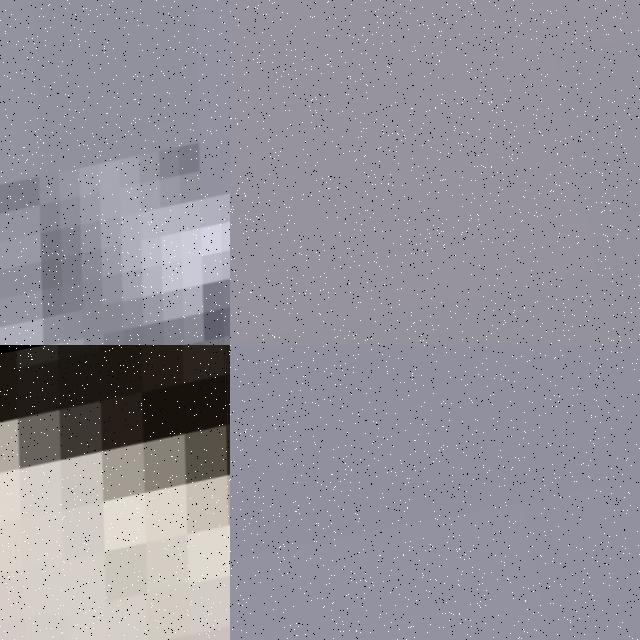drone: (0, 0, 230, 345), (0, 345, 230, 640)
